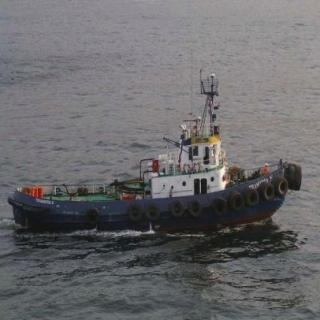Tug Boat: (11, 85, 308, 235)
